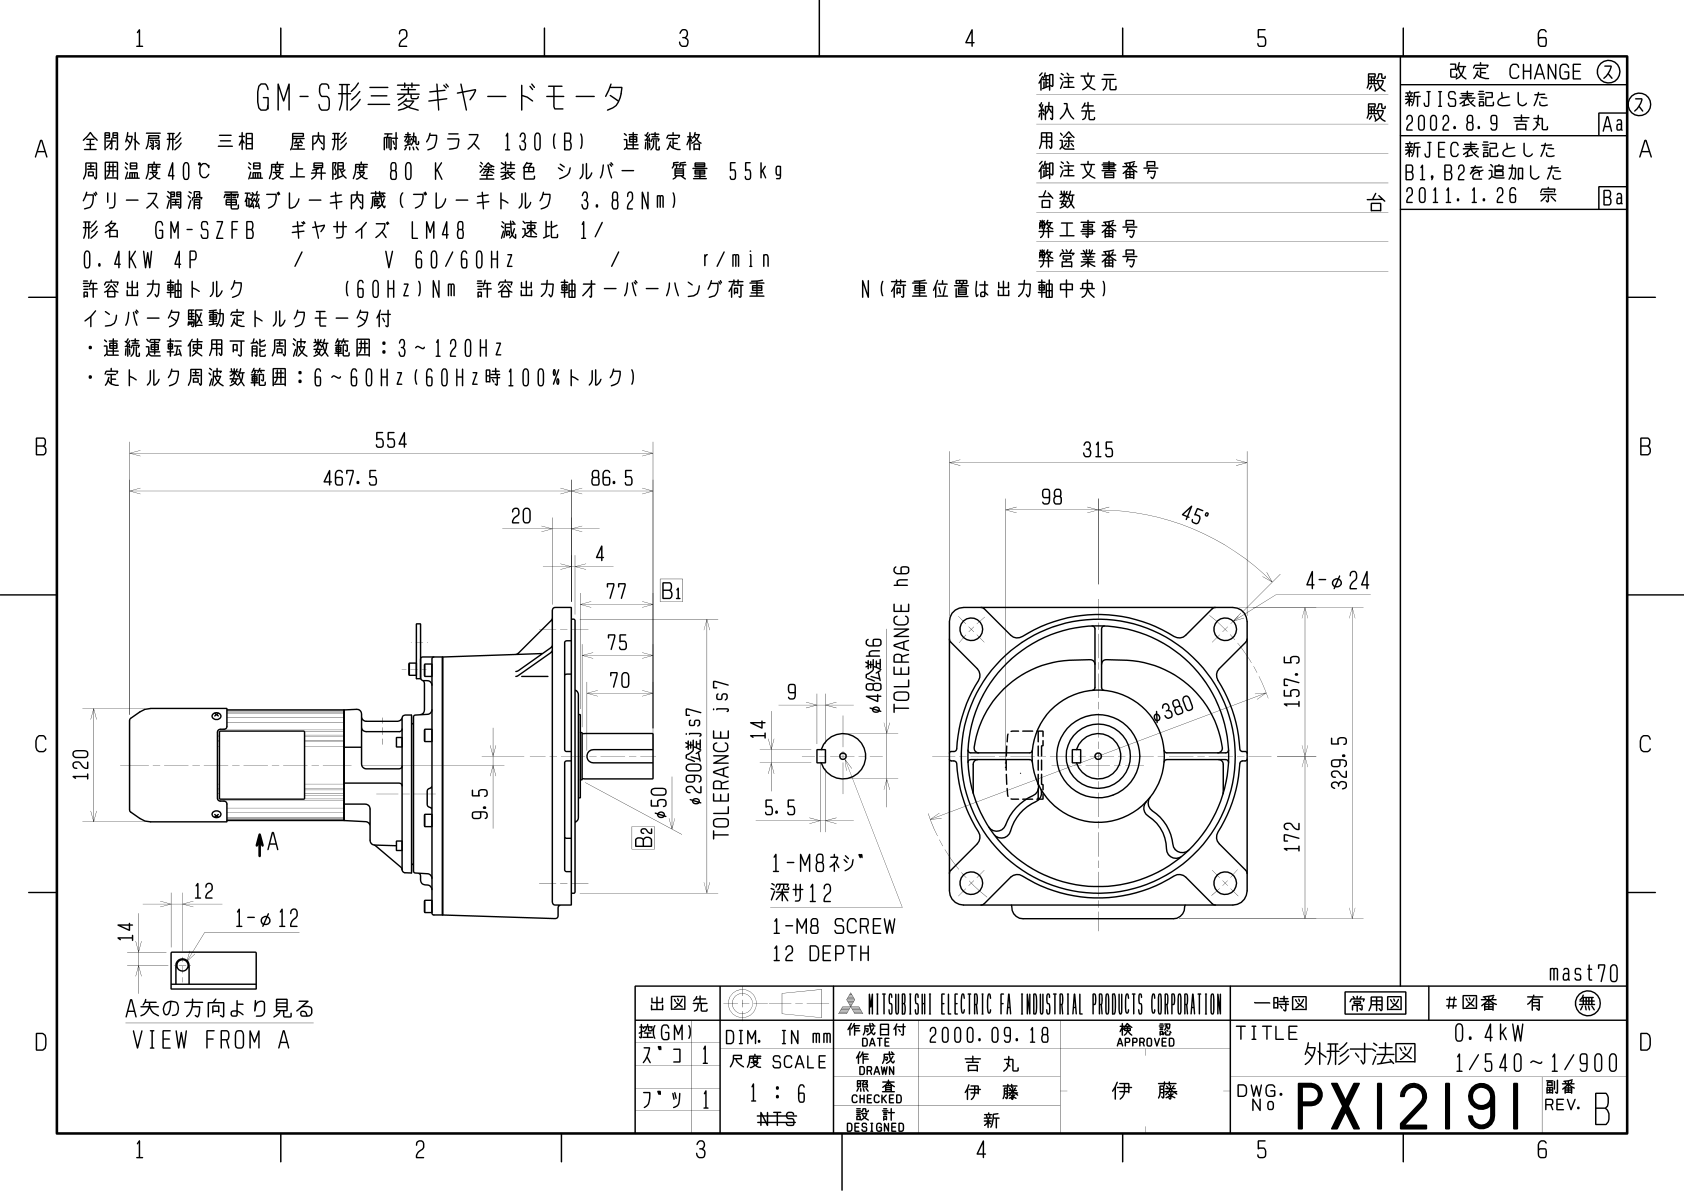GM_S_インバタ屋内＿三相_フランジ: (1, 15, 1681, 1176)
